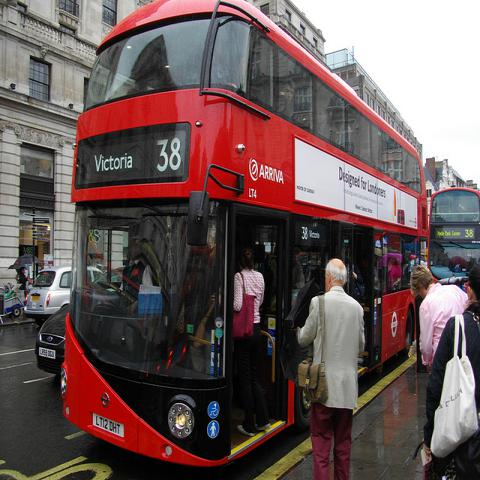bus: (59, 1, 430, 469), (427, 187, 479, 303)
car: (36, 265, 126, 375), (24, 266, 102, 324)
